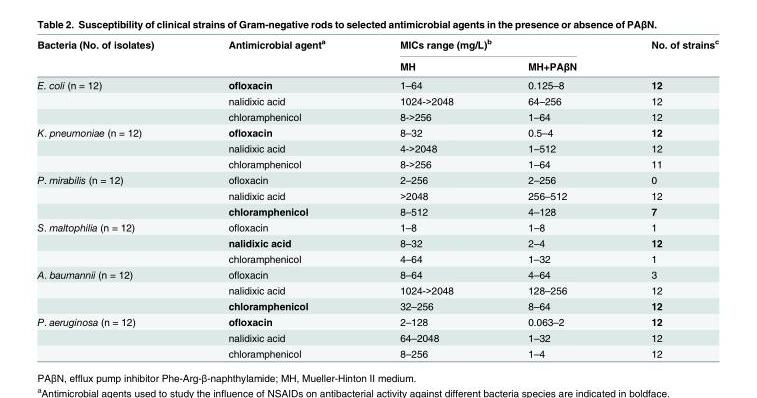table: (36, 36, 718, 358)
table column: (190, 36, 361, 358), (36, 36, 190, 358), (361, 36, 490, 358), (490, 36, 613, 358), (613, 36, 718, 358)
table column header: (36, 36, 718, 75)
table row: (36, 54, 718, 75), (36, 36, 718, 54), (36, 75, 718, 92), (36, 92, 718, 108), (36, 108, 718, 124), (36, 124, 718, 140), (36, 155, 718, 171), (36, 171, 718, 187), (36, 187, 718, 203), (36, 218, 718, 234), (36, 234, 718, 250), (36, 250, 718, 266), (36, 266, 718, 282), (36, 297, 718, 313), (36, 313, 718, 329), (36, 329, 718, 345), (36, 140, 718, 155), (36, 203, 718, 218), (36, 282, 718, 297), (36, 345, 718, 358)
table spanning cell: (36, 75, 190, 124), (36, 218, 190, 266), (36, 124, 190, 171), (36, 171, 190, 218), (36, 266, 190, 313), (36, 313, 190, 358), (190, 36, 361, 75), (36, 36, 190, 75), (361, 36, 613, 54), (613, 36, 718, 75)
